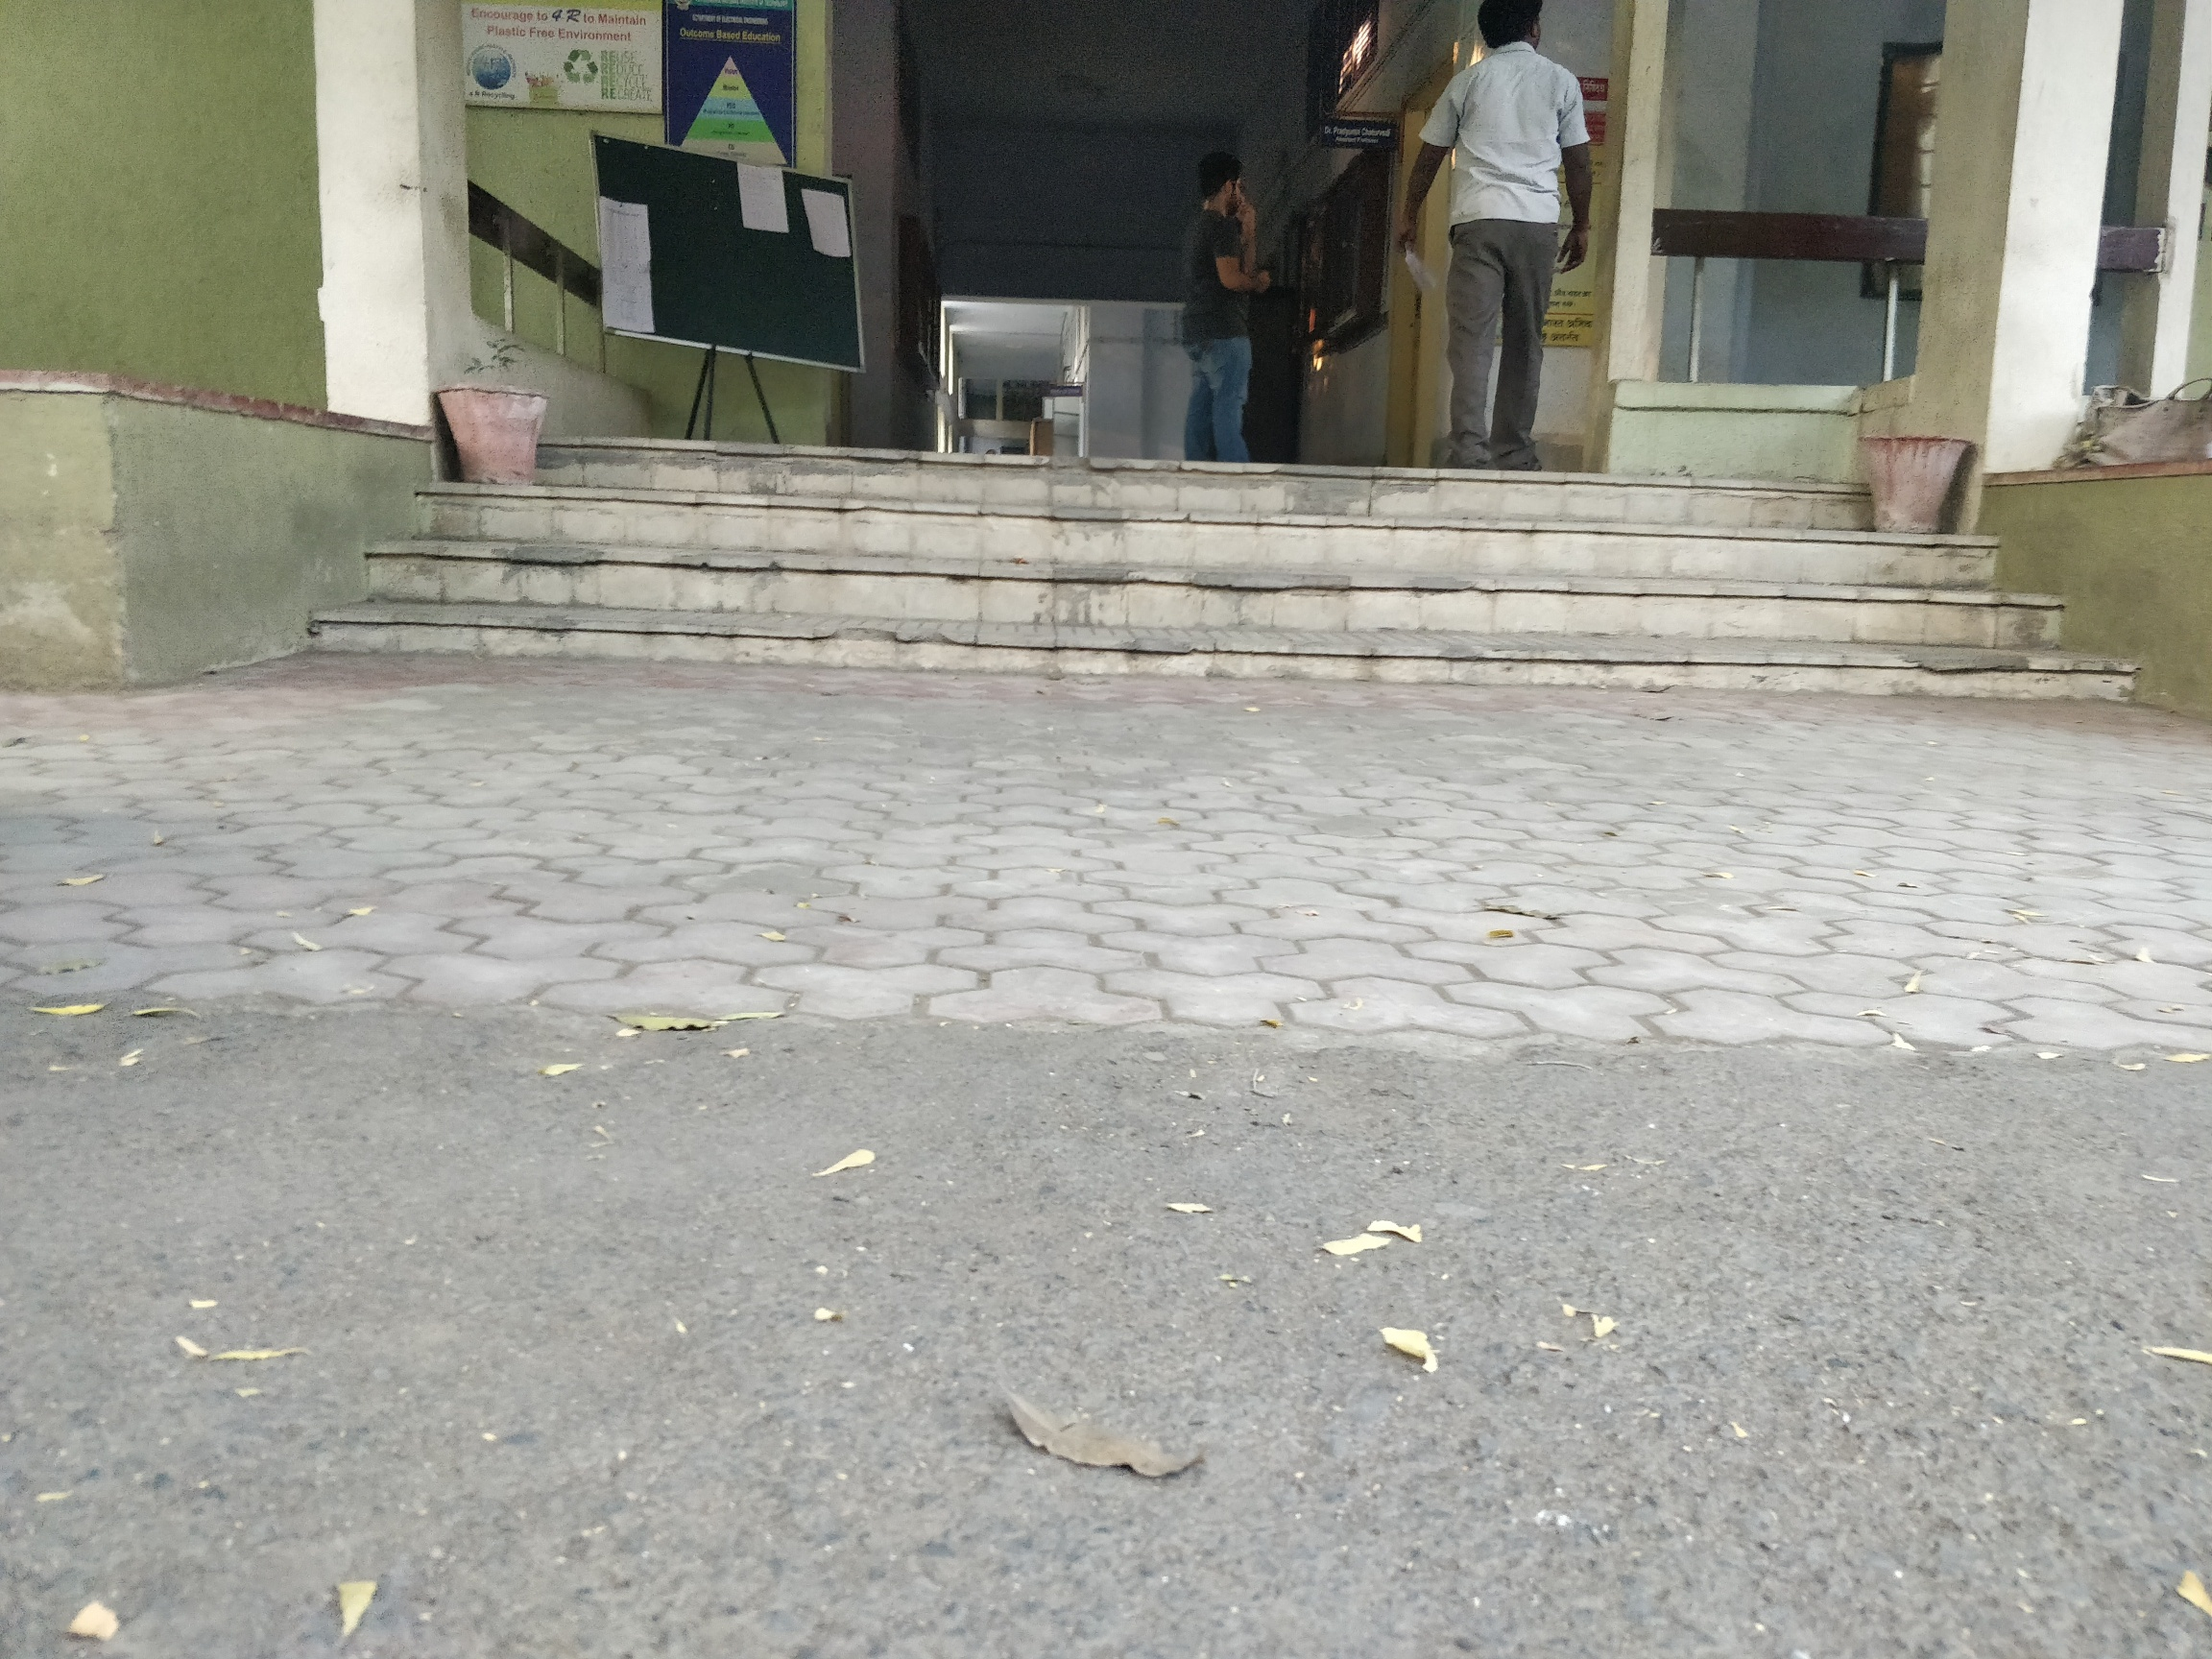stairs_up: (357, 394, 2033, 713)
